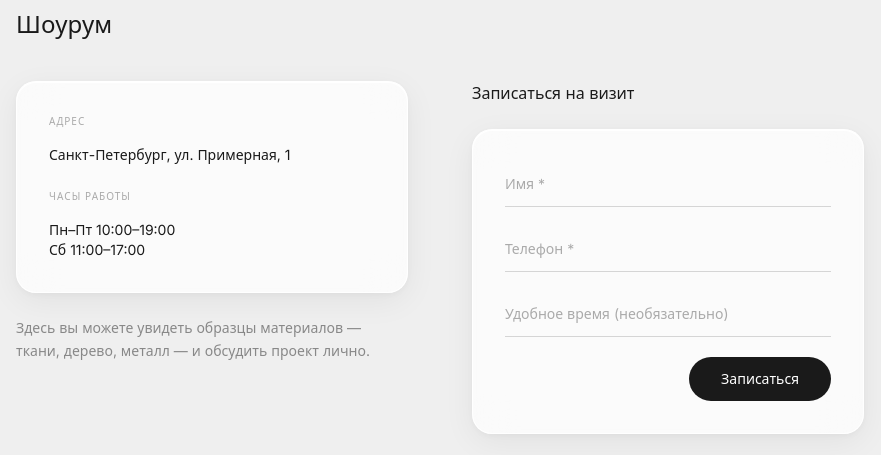
Test case: ShowroomPage › shows confirmation after valid submit
Type "Анна" into the field labelled "Имя" at [668, 184], box [505,162,831,207]
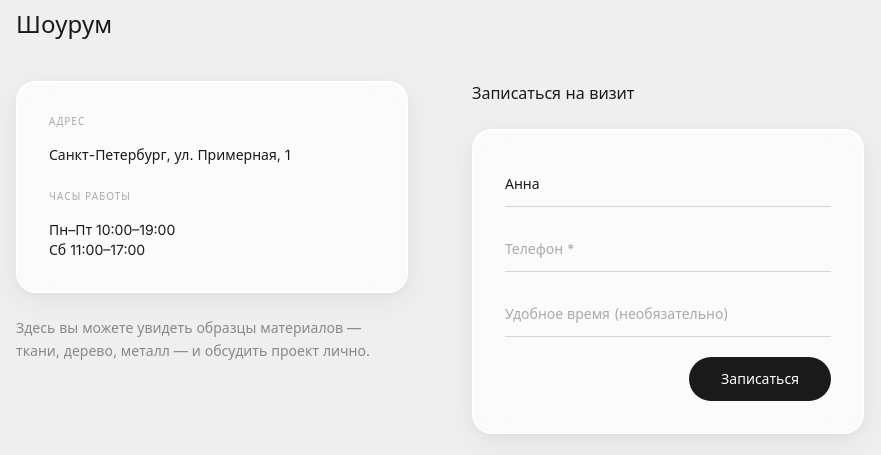
Type "+7 999 123" into the field labelled "Телефон" at [668, 250], box [505,227,831,272]
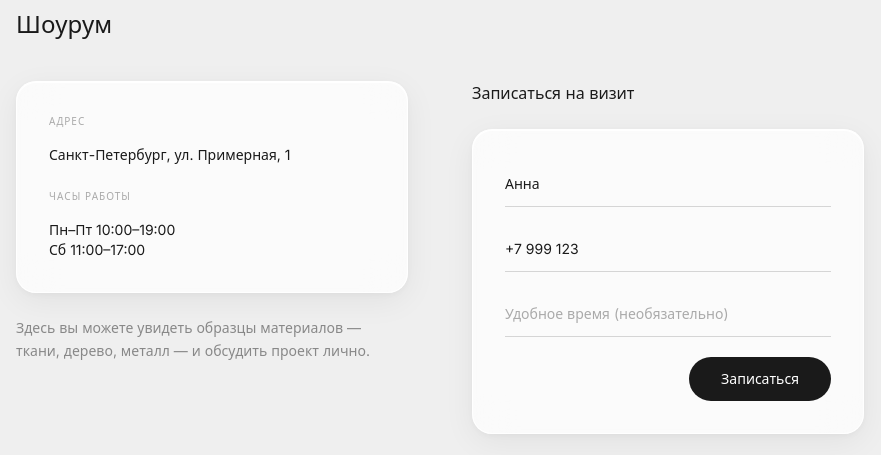
Click the button "Записаться" at [760, 379], box [689,357,831,401]
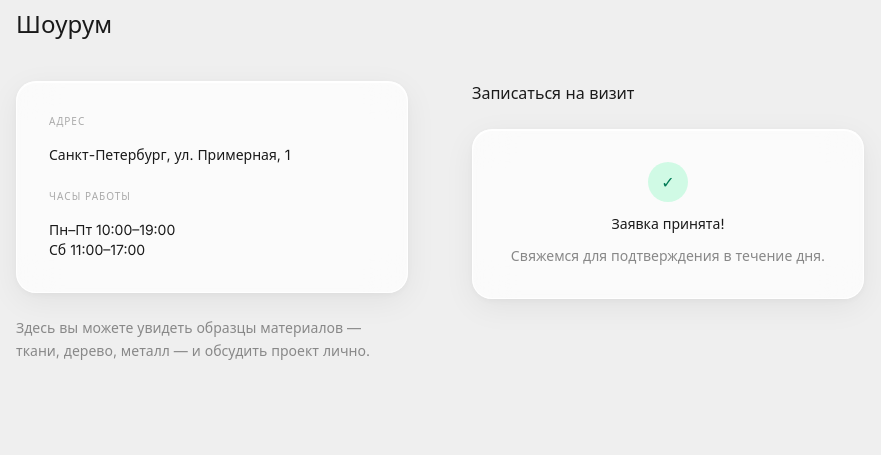
Expected: the text "Заявка принята!" is shown, [612,215,724,232]
